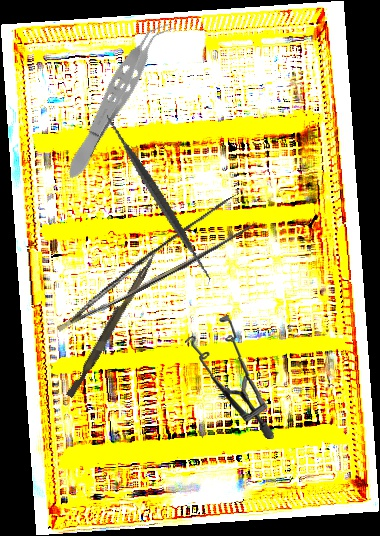Pusher: (66, 247, 158, 401)
Spatula Surgical: (64, 104, 253, 292)
Speculum: (180, 313, 281, 439)
Tissue Forceps: (40, 191, 261, 333), (58, 11, 176, 186)
